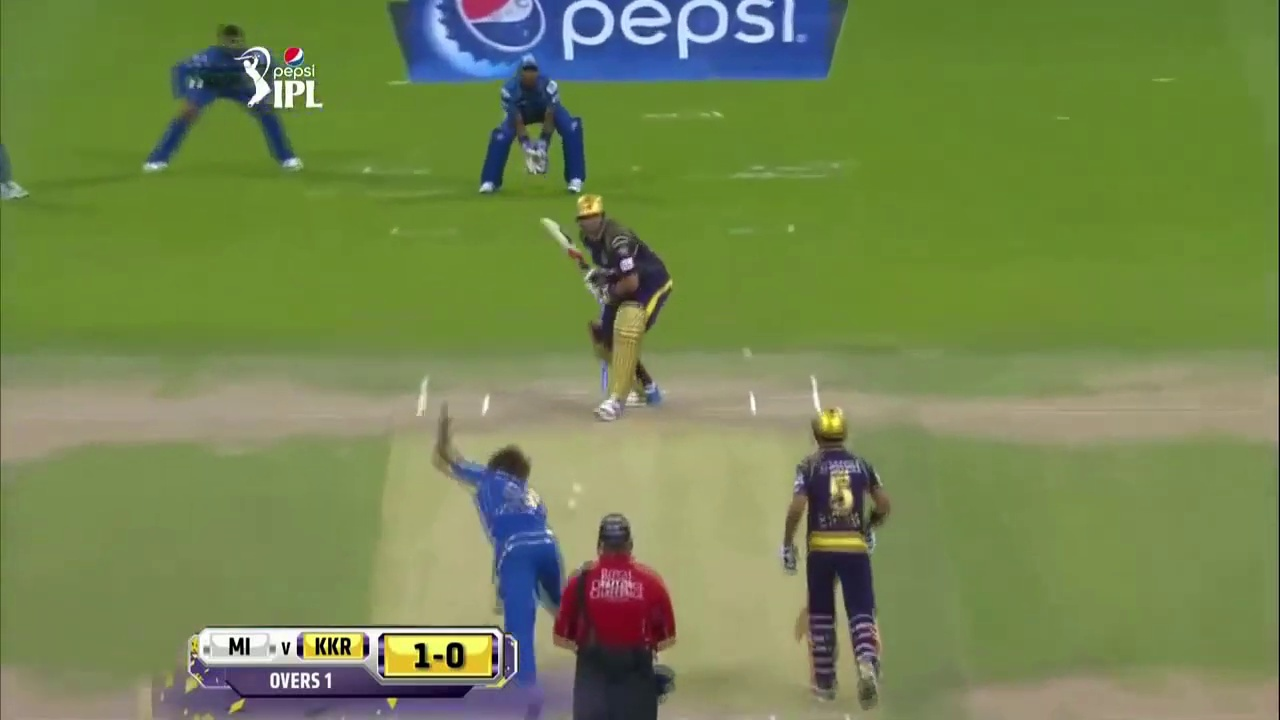bat: (538, 213, 574, 259)
